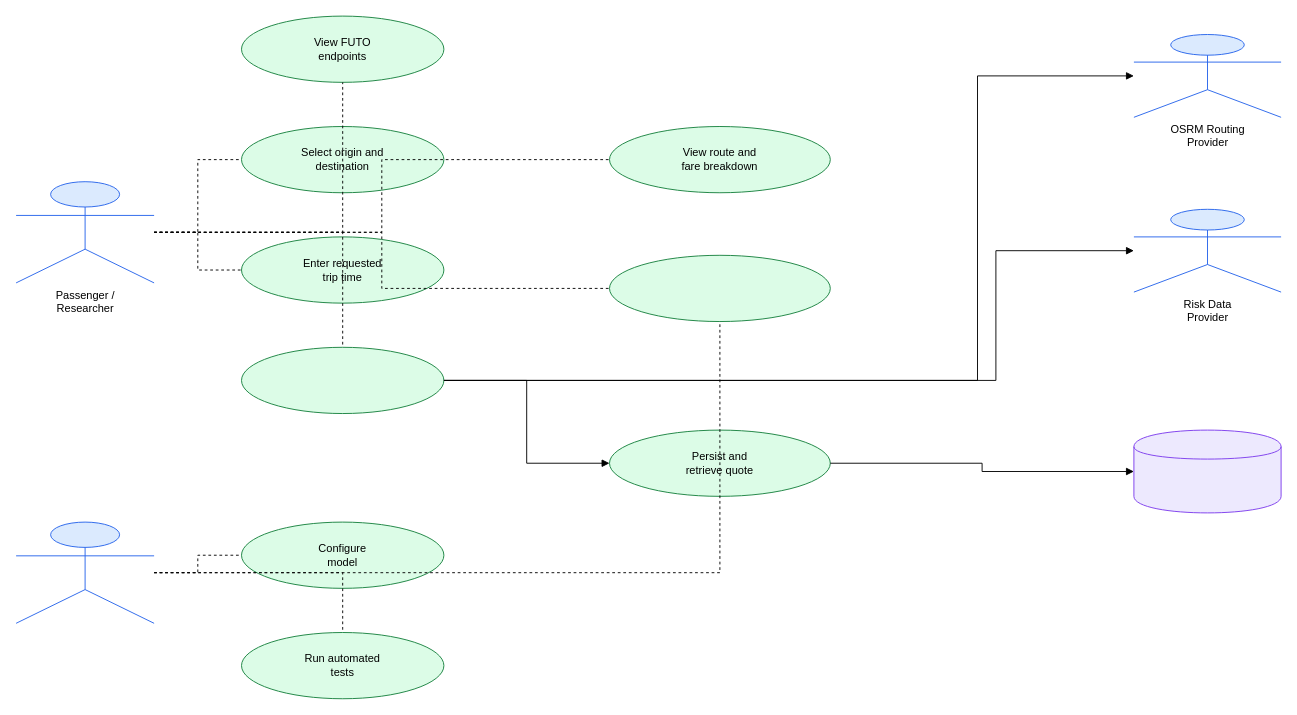
Some shapes in this 1297 by 715 pixel diagram are drawn without their labels. Each missing label, with the box of its shape:
Developer / Researcher: (15, 521, 154, 623)
Inspect risk and demand provenance: (609, 254, 830, 322)
PostgreSQL Database: (1133, 429, 1281, 513)
Request fare estimate: (241, 346, 444, 414)
